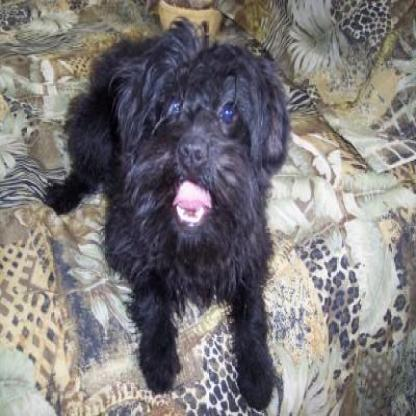affenpinscher: (43, 20, 289, 408)
